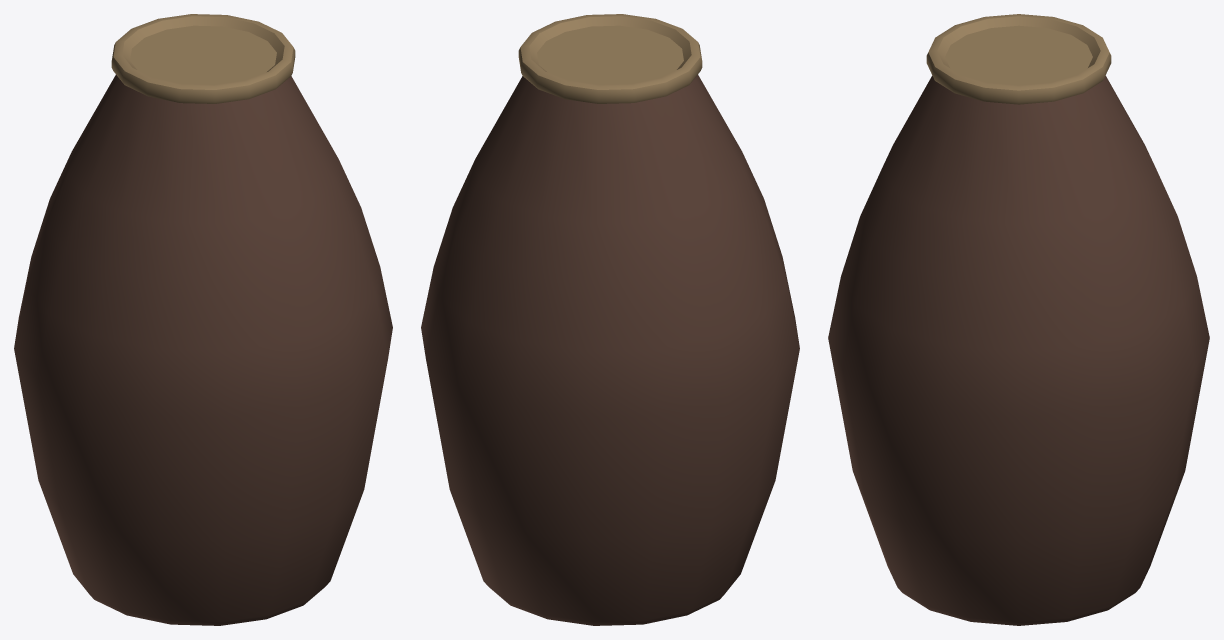
File: porceclainJar.fbx
The picture shows the model from 3 angles, left to right: view 1: azimuth 30°, elevation 25°; view 2: azimuth 150°, elevation 25°; view 3: azimuth 270°, elevation 25°; orthographic projection.
Parts seen in each view (by area): view 1: Circle.007; view 2: Circle.007; view 3: Circle.007.
Boxes of the visible parts, x1,y1,x2,y2 form: Circle.007: (14, 14, 392, 625); Circle.007: (421, 14, 799, 625); Circle.007: (828, 14, 1209, 625).
Size of the model in its own units: 0.6839 by 1.04 by 0.6839.
